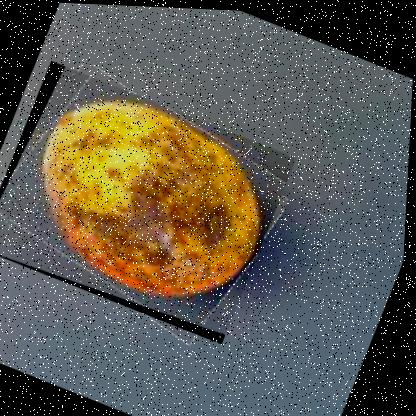mango_rotten: (0, 57, 304, 345)
